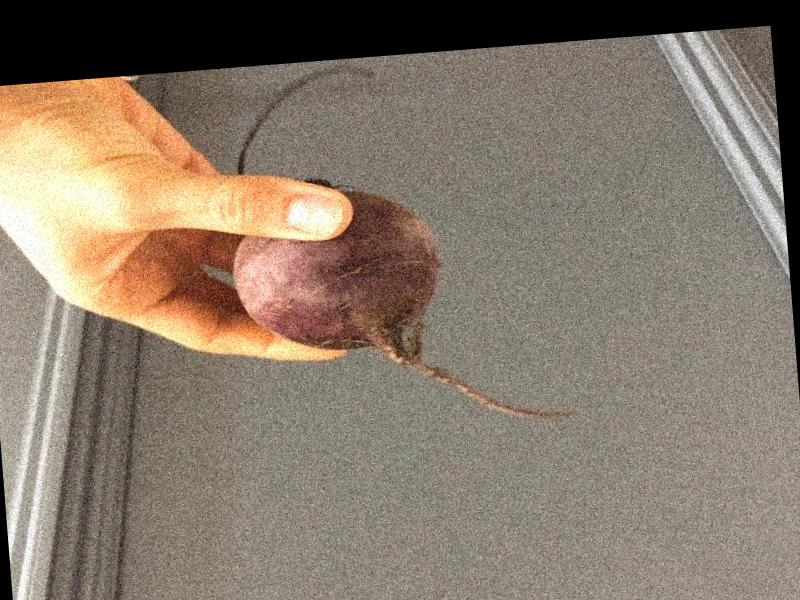Beet: (219, 50, 578, 440)
